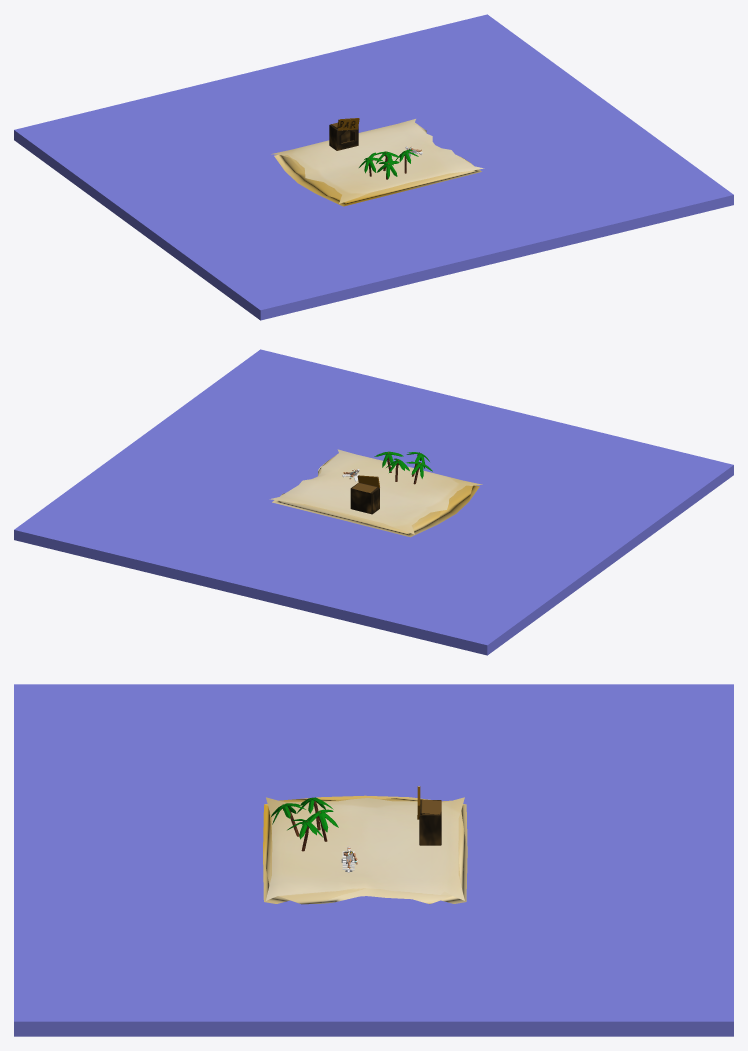
The model's file is beach.glb.
3 renders of one model, top to bottom at view 1: azimuth 30°, elevation 25°; view 2: azimuth 150°, elevation 25°; view 3: azimuth 270°, elevation 25°, orthographic. The views are drawn at different scales.
Parts seen in each view (by area): view 1: Cube.004, Cube, Cube.021; view 2: Cube.004, Cube, Cube.021; view 3: Cube.004, Cube, Cube.021.
Part boxes in pixels (x1,y1,x2,y2): Cube.004: (14,14,733,320); Cube: (271,119,484,206); Cube.021: (329,118,359,150); Cube.004: (14,349,733,655); Cube: (269,449,482,537); Cube.021: (350,475,379,514); Cube.004: (14,684,733,1036); Cube: (263,795,467,904); Cube.021: (417,786,441,845).
Bounding box in the file's own units: 307 × 28.78 × 277.
Materials: 20 (12 with a texture image).
